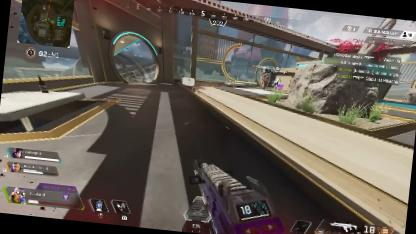Target: (260, 70, 270, 90), (272, 76, 280, 90)
